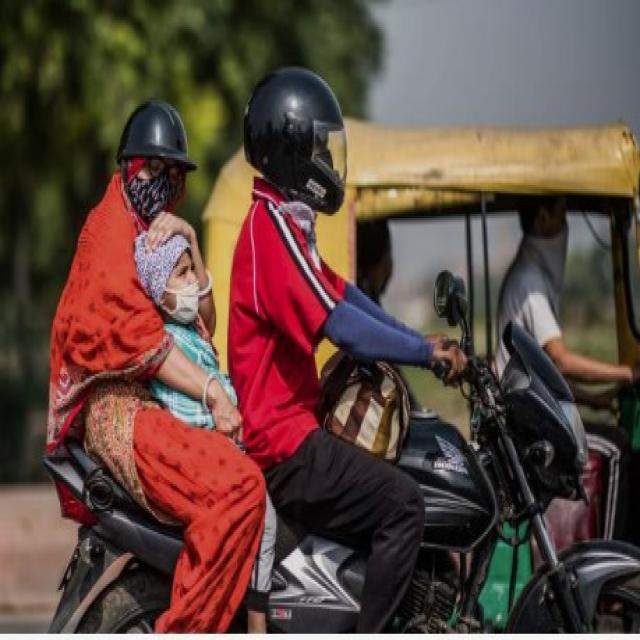With Helmet: (41, 55, 637, 640)
